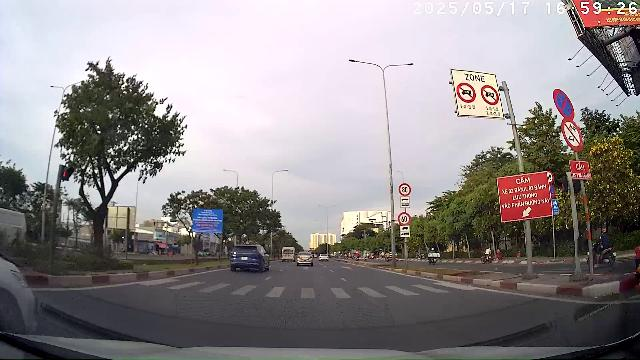127-toc-do-toi-da-60: (398, 212, 410, 226)
127-toc-do-toi-da-80: (398, 182, 412, 196)
130-cam-dung-va-do-xe: (553, 88, 575, 120)
